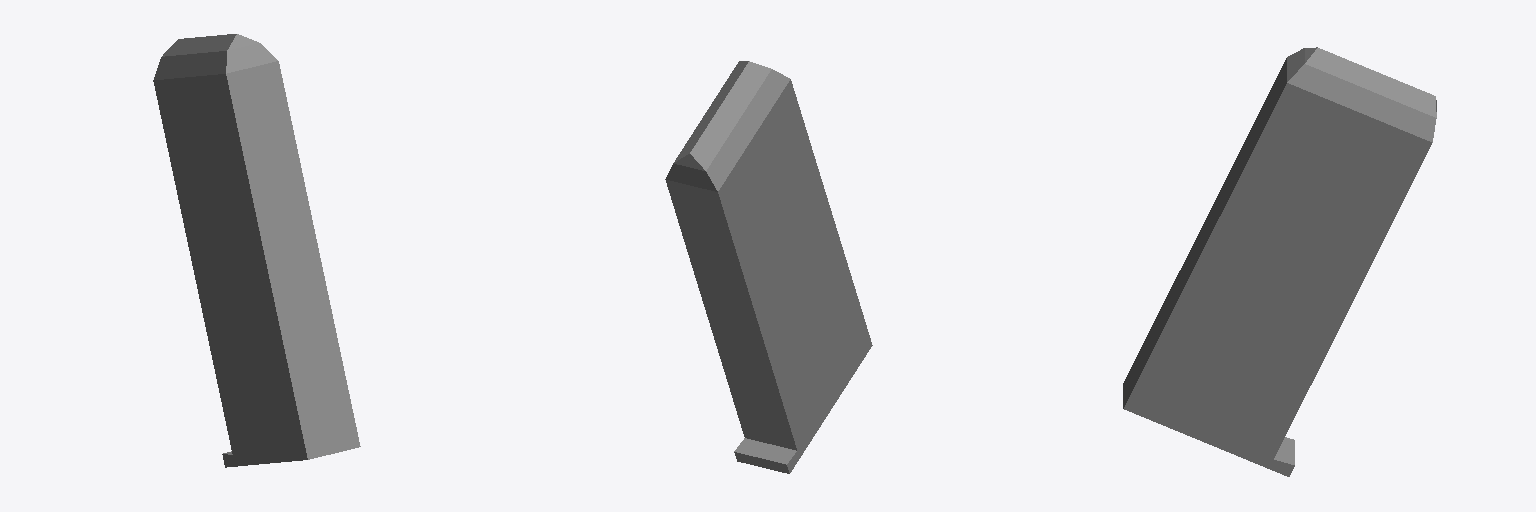
The model's file is mag1.obj.
3 renders of one model, left to right at view 1: azimuth 30°, elevation 25°; view 2: azimuth 150°, elevation 25°; view 3: azimuth 270°, elevation 25°, orthographic.
Visible parts, largest first — view 1: mag1; view 2: mag1; view 3: mag1.
Boxes of the visible parts, box(x1,y1,x2,y2) form: mag1: box(153, 34, 360, 467); mag1: box(665, 61, 872, 473); mag1: box(1123, 47, 1436, 476).
Size of the model in its own units: 1.63 by 12.33 by 8.39.